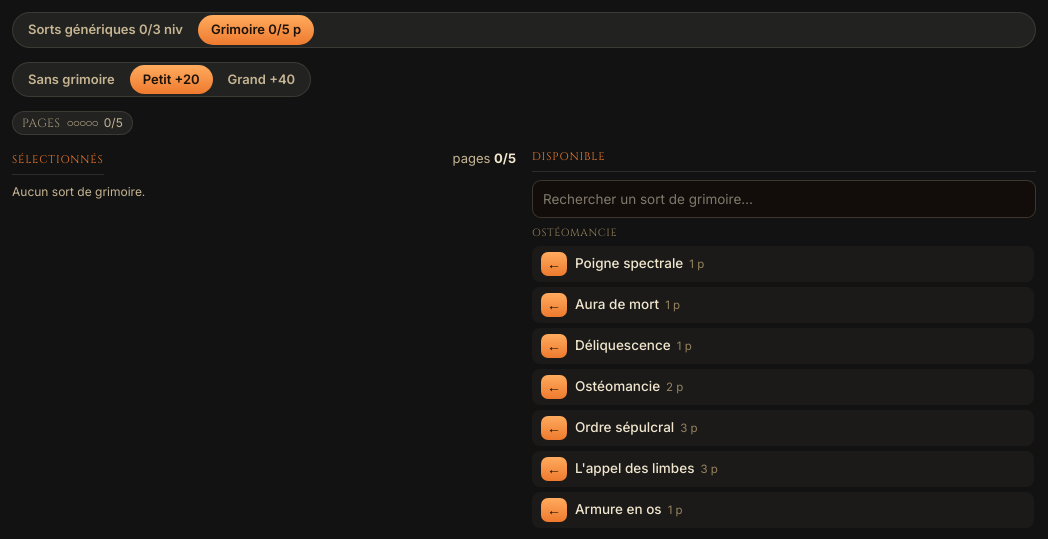
Test: MagiePanel - séparation des deux budgets › ne mélange pas les deux familles dans un même volet
The image size is (1048, 539).
Expected: the text "Confusion" is not shown
Step 1. Click the radio button "Sorts génériques 0/3 niv" → (106, 30), box [15,15,196,44]
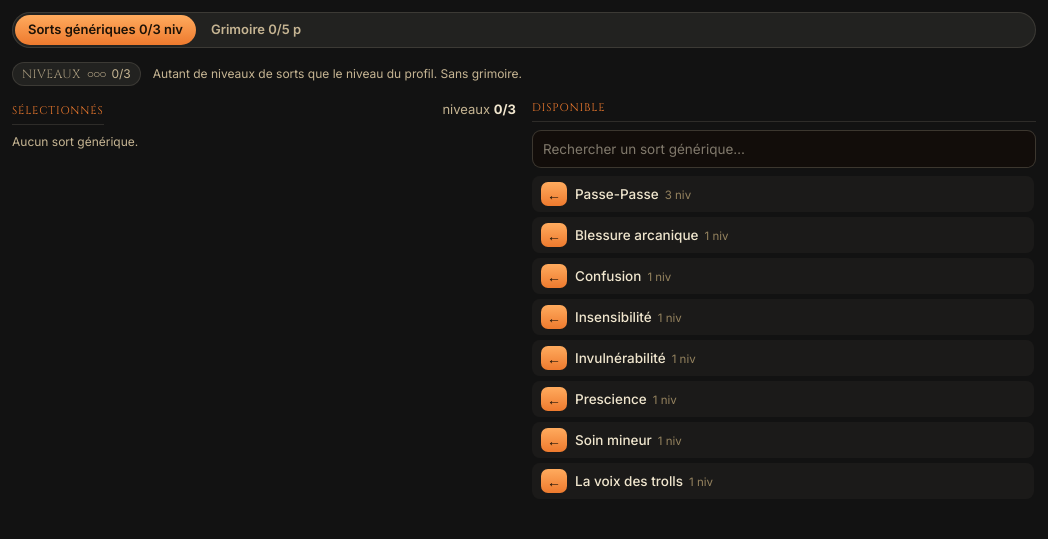
Result: the text "Confusion" is shown at [575,268,641,284]
